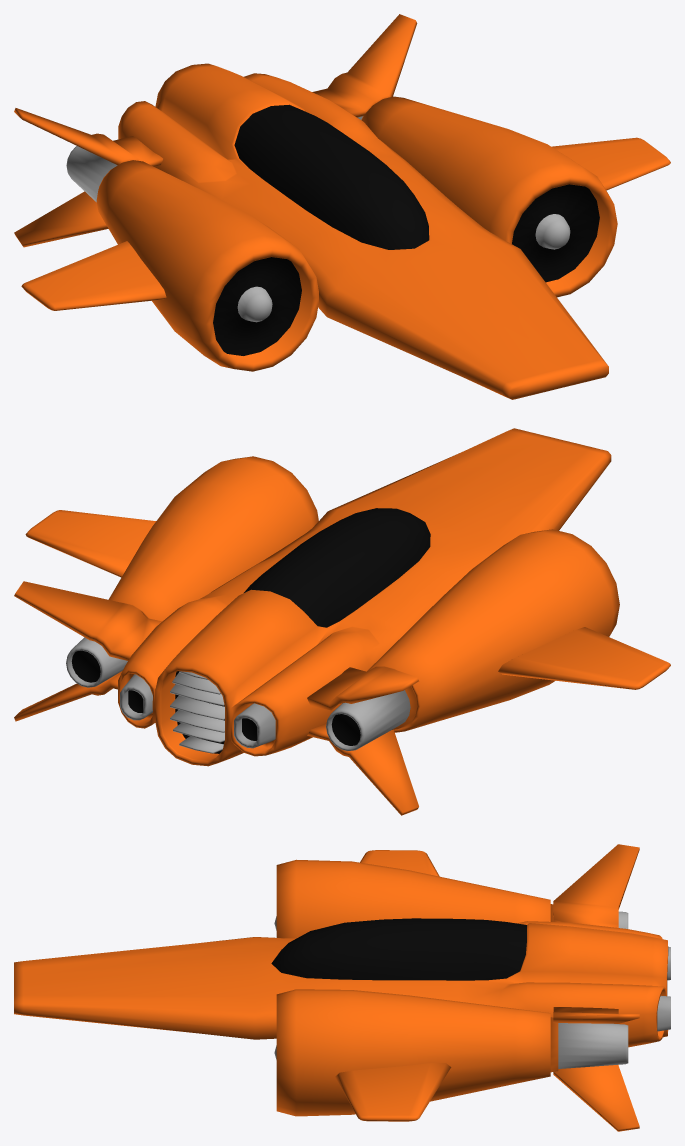
File: Vehicle_Bion_A 1.fbx
The picture shows the model from 3 angles, top to bottom: view 1: azimuth 30°, elevation 25°; view 2: azimuth 150°, elevation 25°; view 3: azimuth 270°, elevation 25°; orthographic projection. The views are drawn at different scales.
Parts seen in each view (by area): view 1: Geometry_Vehicle_Bion_A_LOD00; view 2: Geometry_Vehicle_Bion_A_LOD00; view 3: Geometry_Vehicle_Bion_A_LOD00.
Part boxes in pixels (bbox=[...]): Geometry_Vehicle_Bion_A_LOD00: bbox=[14, 14, 670, 399]; Geometry_Vehicle_Bion_A_LOD00: bbox=[14, 428, 670, 815]; Geometry_Vehicle_Bion_A_LOD00: bbox=[14, 844, 670, 1131].
Size of the model in its own units: 158 by 34.09 by 164.
